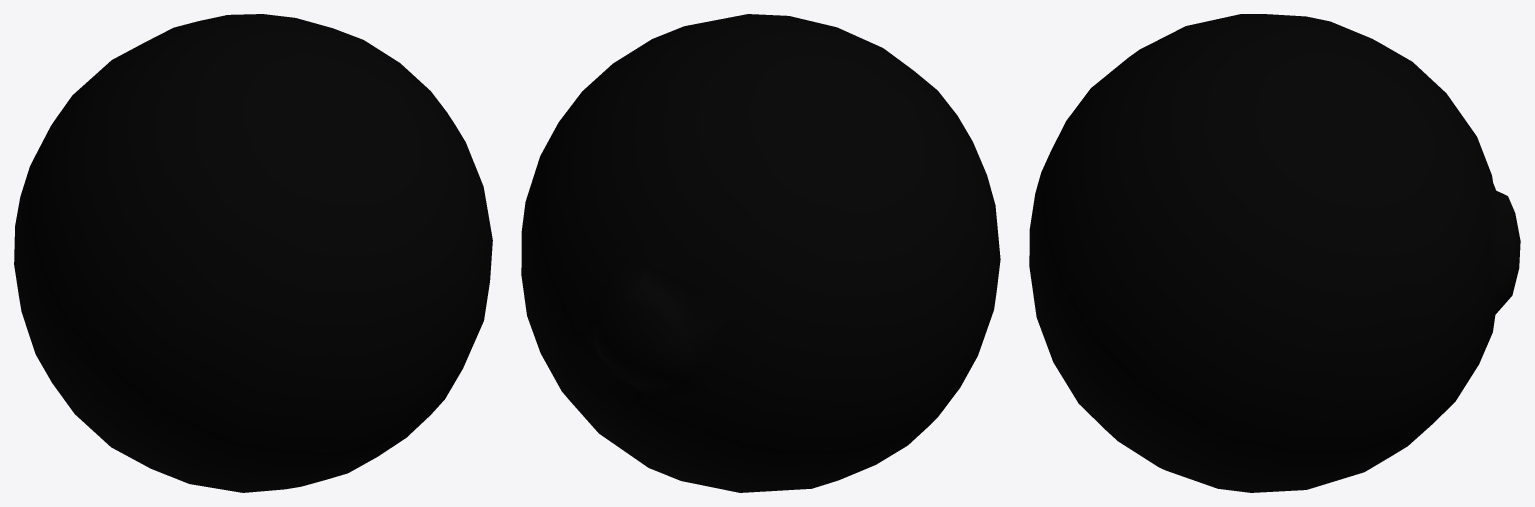
Rendered from eye_normal_01.glb.
3 views of the same model, side by side, from view 1: azimuth 30°, elevation 25°; view 2: azimuth 150°, elevation 25°; view 3: azimuth 270°, elevation 25° (orthographic).
Parts seen in each view (by area): view 1: CreaturePart_Eye_Normal_01_LOD0-col; view 2: CreaturePart_Eye_Normal_01_LOD0-col; view 3: CreaturePart_Eye_Normal_01_LOD0-col.
Boxes of the visible parts, bbox=[...] form: CreaturePart_Eye_Normal_01_LOD0-col: bbox=[14, 14, 492, 492]; CreaturePart_Eye_Normal_01_LOD0-col: bbox=[521, 14, 1000, 492]; CreaturePart_Eye_Normal_01_LOD0-col: bbox=[1029, 14, 1520, 492].
Bounding box in the file's own units: 0.9736 × 0.9745 × 0.9999.
Materials: 1 (1 with a texture image).
